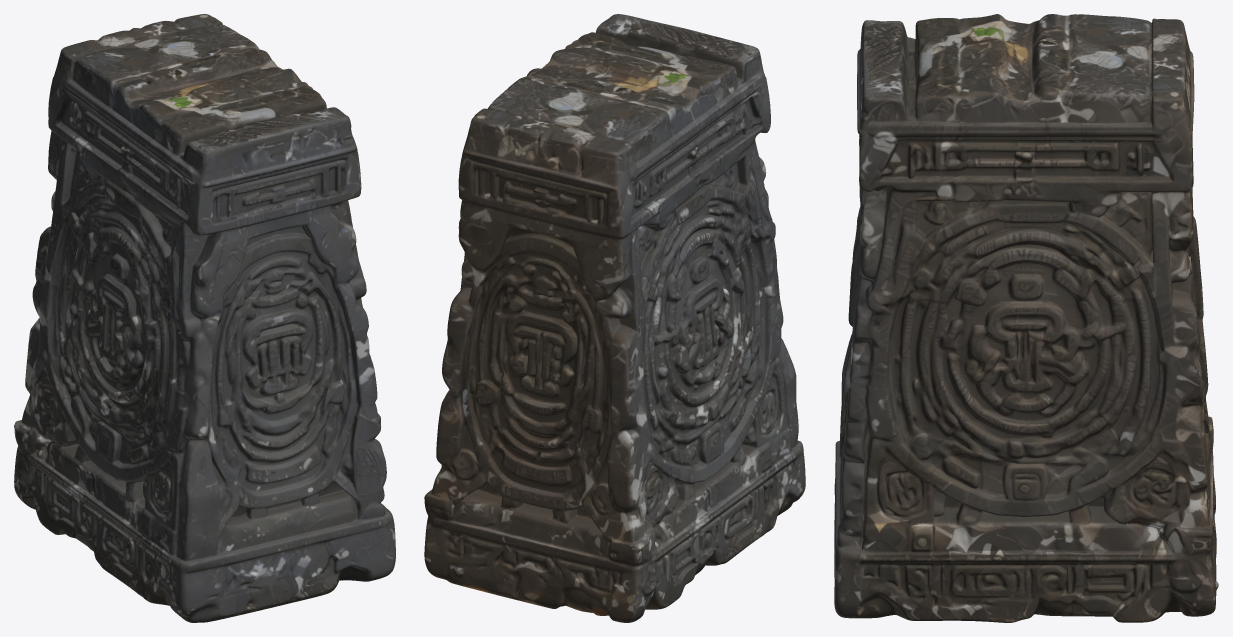
The model's file is ruin_pillar_vaelor.glb.
3 views of the same model, side by side, from view 1: azimuth 30°, elevation 25°; view 2: azimuth 150°, elevation 25°; view 3: azimuth 270°, elevation 25° (orthographic). The views are drawn at different scales.
Visible parts, largest first — view 1: tripo_node_f299f018-ef50-4f2a-830b-34e6a2a2bba3; view 2: tripo_node_f299f018-ef50-4f2a-830b-34e6a2a2bba3; view 3: tripo_node_f299f018-ef50-4f2a-830b-34e6a2a2bba3.
Part boxes in pixels (box(x1,y1,x2,y2)): tripo_node_f299f018-ef50-4f2a-830b-34e6a2a2bba3: box(14, 14, 395, 622); tripo_node_f299f018-ef50-4f2a-830b-34e6a2a2bba3: box(424, 14, 805, 622); tripo_node_f299f018-ef50-4f2a-830b-34e6a2a2bba3: box(834, 14, 1218, 622).
Bounding box in the file's own units: 0.4916 × 1 × 0.6739.
Materials: 1 (1 with a texture image).
